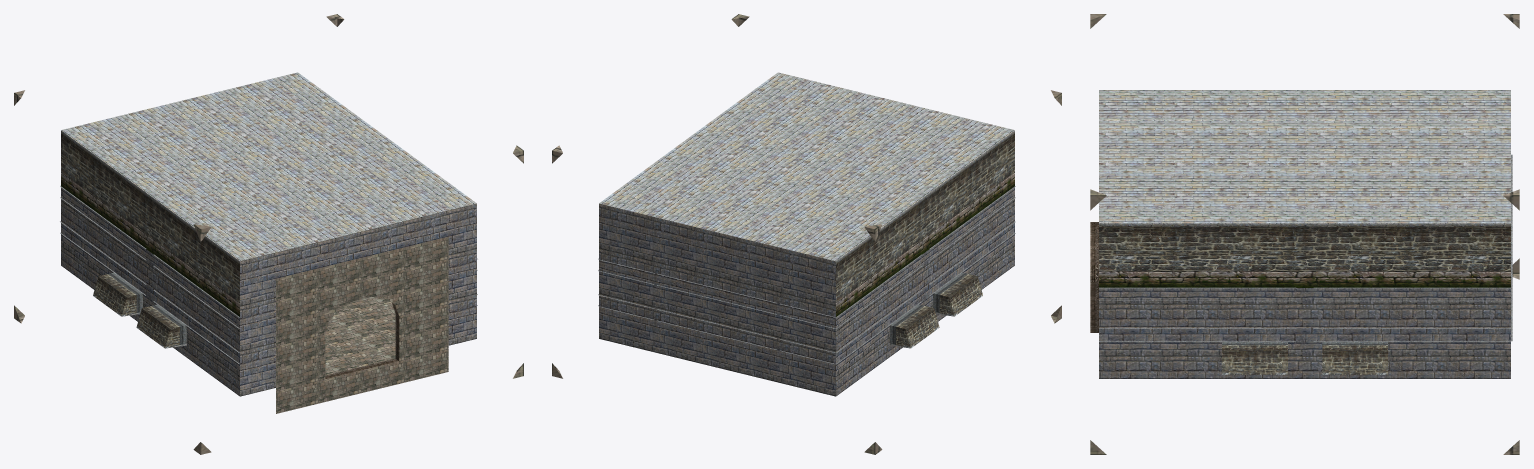
The model's file is lbg_1d.glb.
3 renders of one model, left to right at view 1: azimuth 30°, elevation 25°; view 2: azimuth 150°, elevation 25°; view 3: azimuth 270°, elevation 25°, orthographic. The views are drawn at different scales.
Visible parts, largest first — view 1: lbg_1d-col; view 2: lbg_1d-col; view 3: lbg_1d-col.
Part boxes in pixels (bbox=[...]): lbg_1d-col: bbox=[14, 14, 523, 454]; lbg_1d-col: bbox=[552, 14, 1061, 454]; lbg_1d-col: bbox=[1090, 14, 1519, 454].
Bounding box in the file's own units: 15 × 10 × 15.
8 materials, 8 textured.
